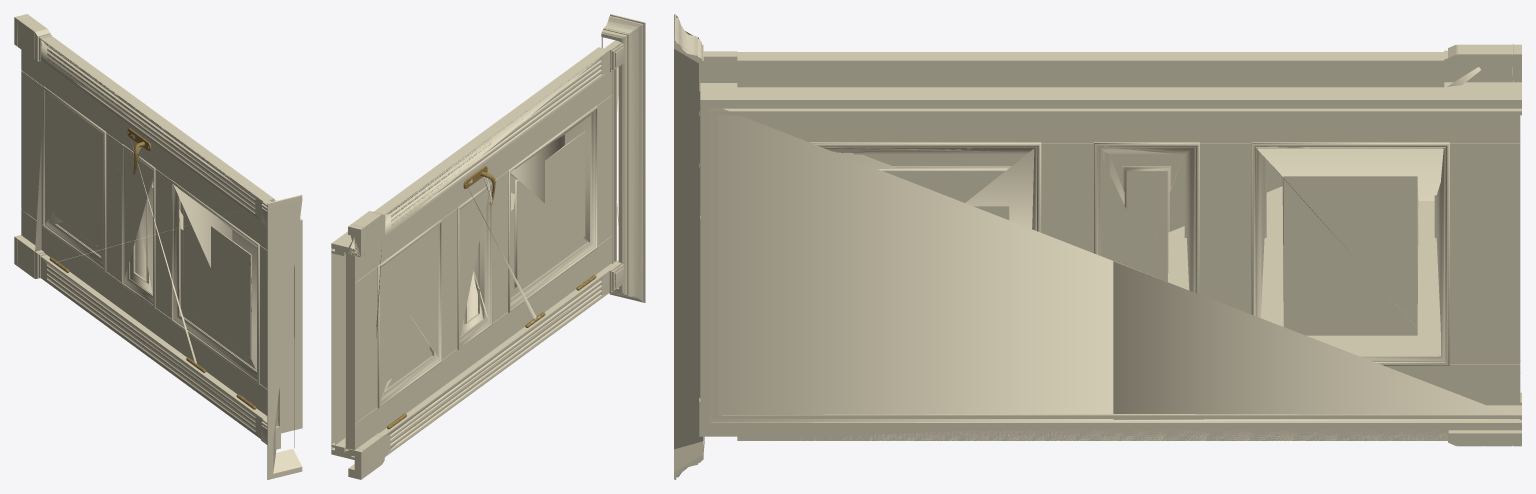
Rendered from 1001516-door.glb.
The picture shows the model from 3 angles, left to right: view 1: azimuth 30°, elevation 25°; view 2: azimuth 150°, elevation 25°; view 3: azimuth 270°, elevation 25°; orthographic projection. The views are drawn at different scales.
Visible parts, largest first — view 1: Object011; view 2: Object011; view 3: Object011.
Part boxes in pixels (x1=…): Object011: x1=14, y1=14, x2=302, y2=479; Object011: x1=331, y1=14, x2=645, y2=479; Object011: x1=674, y1=14, x2=1521, y2=479.
Size of the model in its own units: 8.43 by 51.61 by 90.3.
